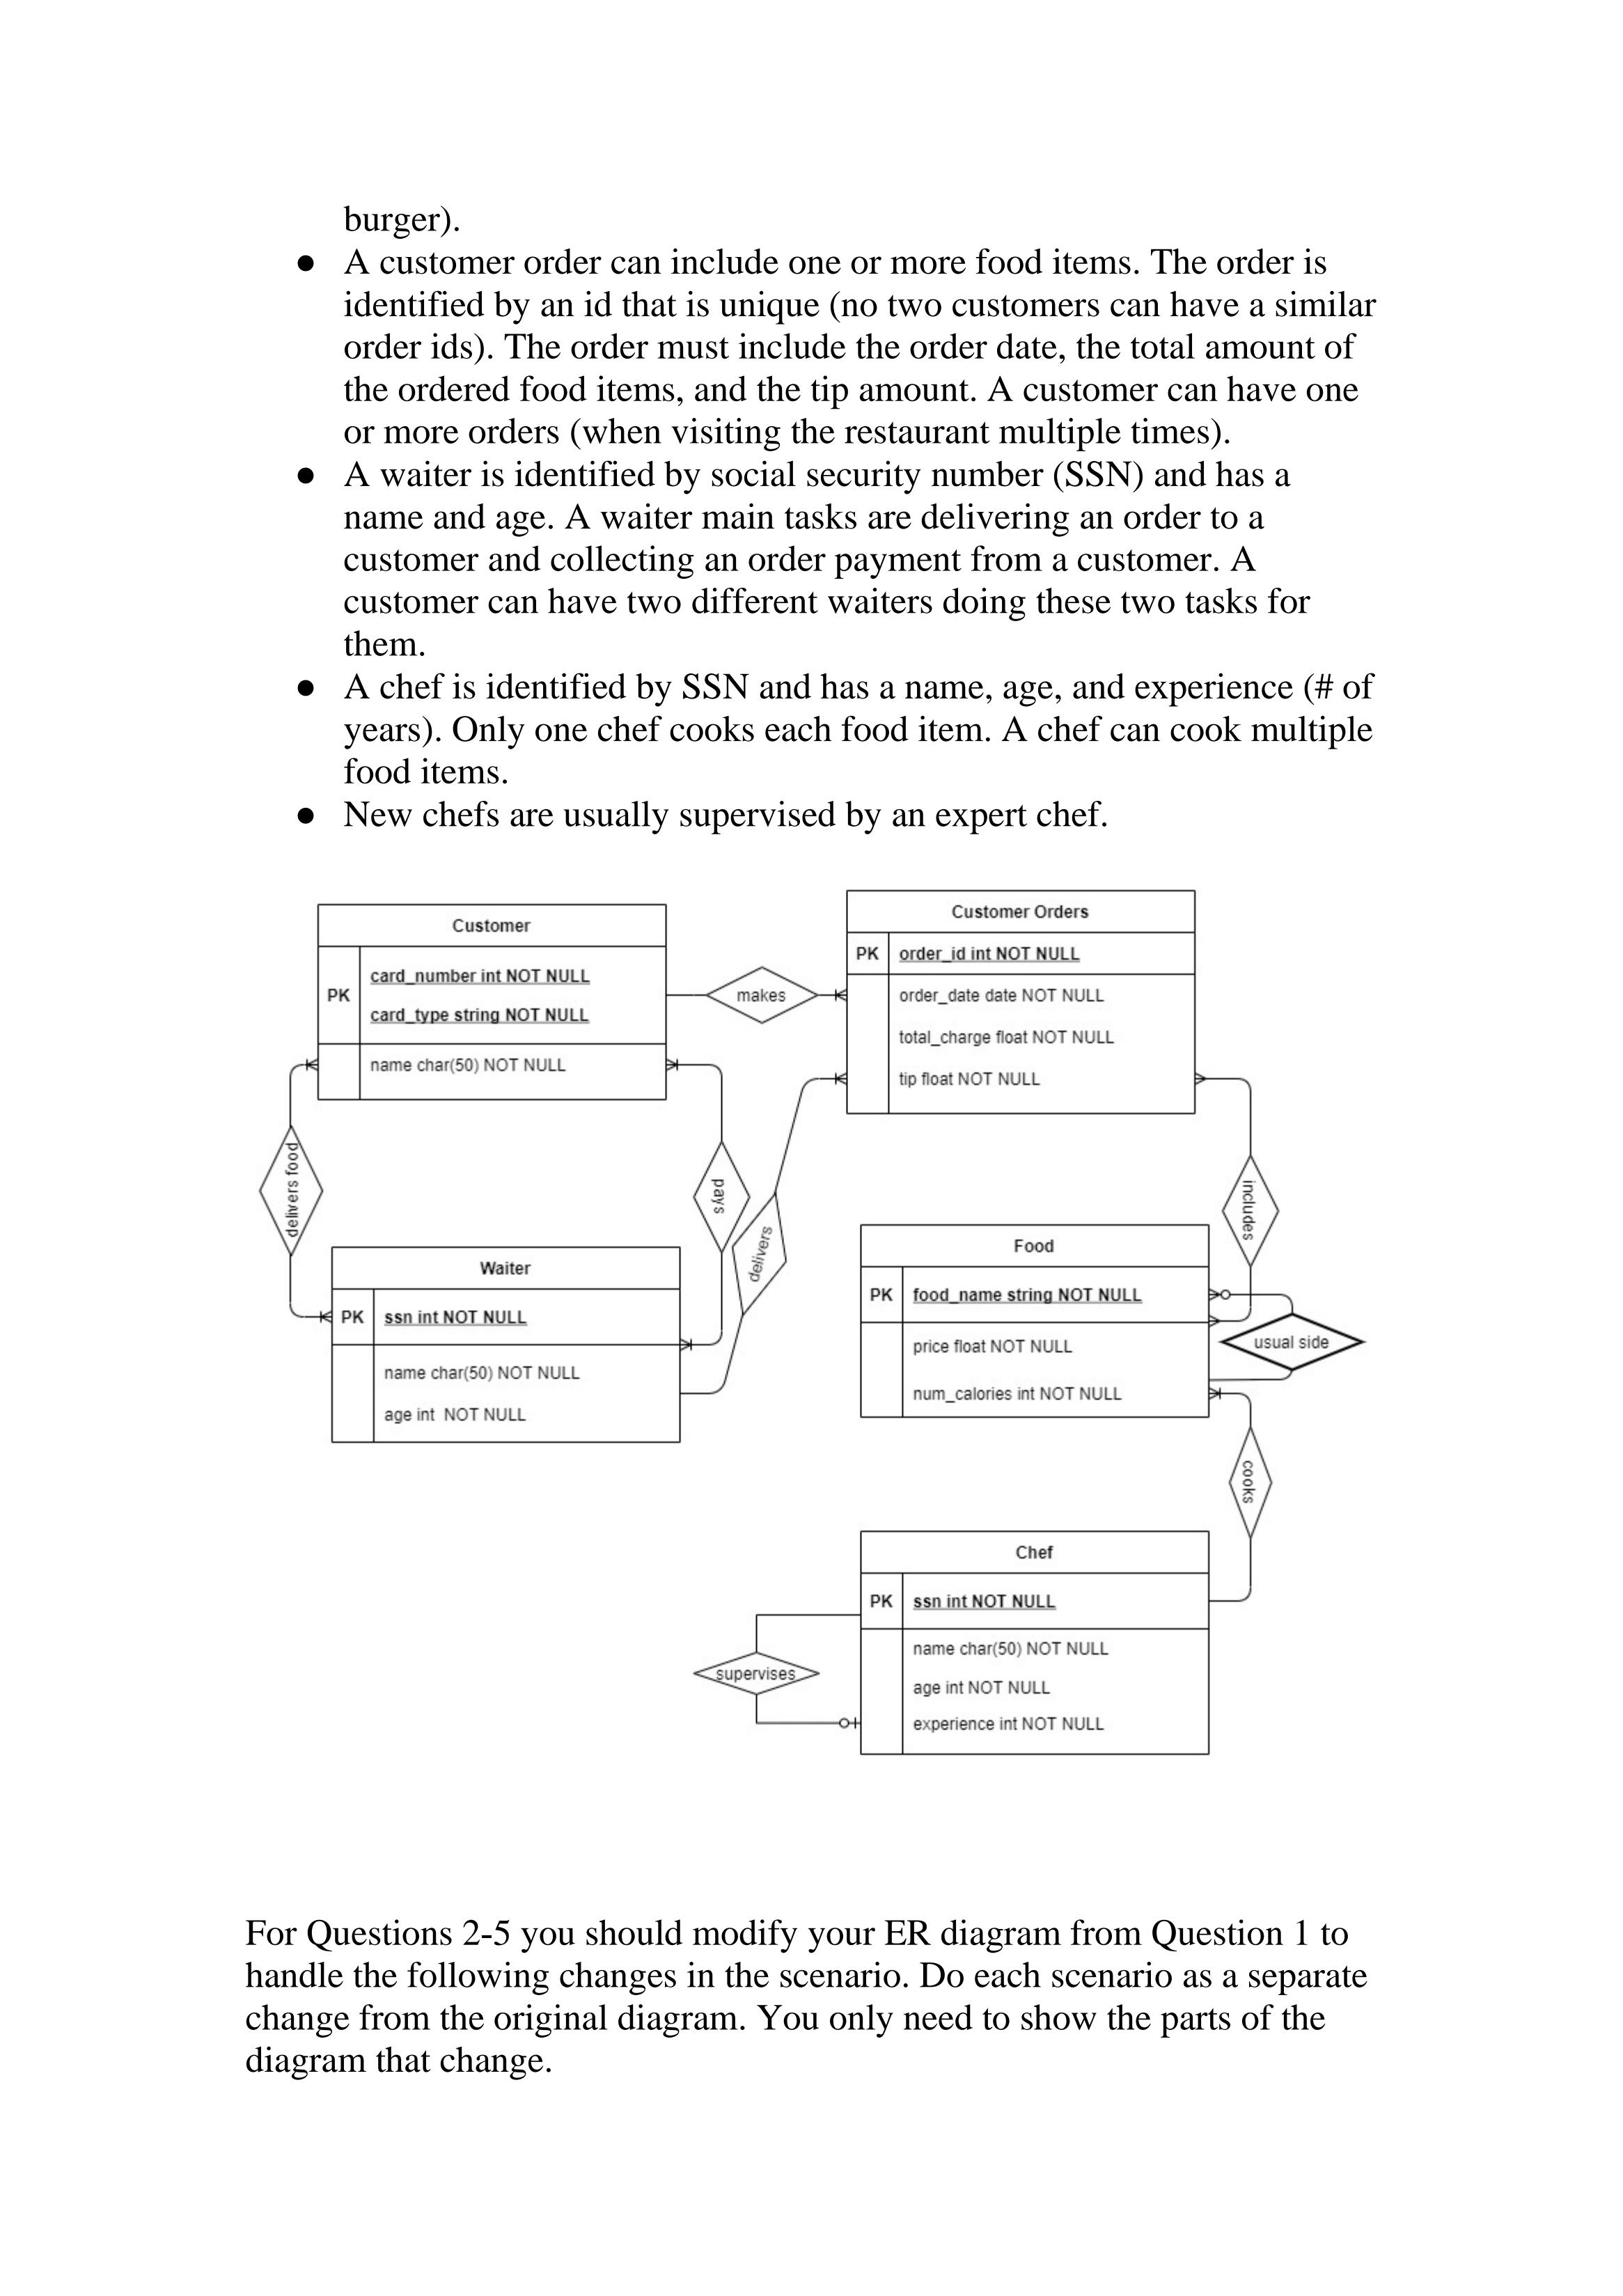Entity: (843, 1523, 1230, 1774), (834, 885, 1208, 1131), (320, 1230, 692, 1460), (847, 1217, 1226, 1433), (307, 899, 678, 1116)
Relationship: (1221, 1309, 1372, 1375), (251, 1123, 325, 1258), (706, 963, 820, 1028), (689, 1140, 750, 1253), (1223, 1156, 1282, 1270), (731, 1193, 787, 1314), (692, 1650, 824, 1700), (1226, 1428, 1272, 1544)
